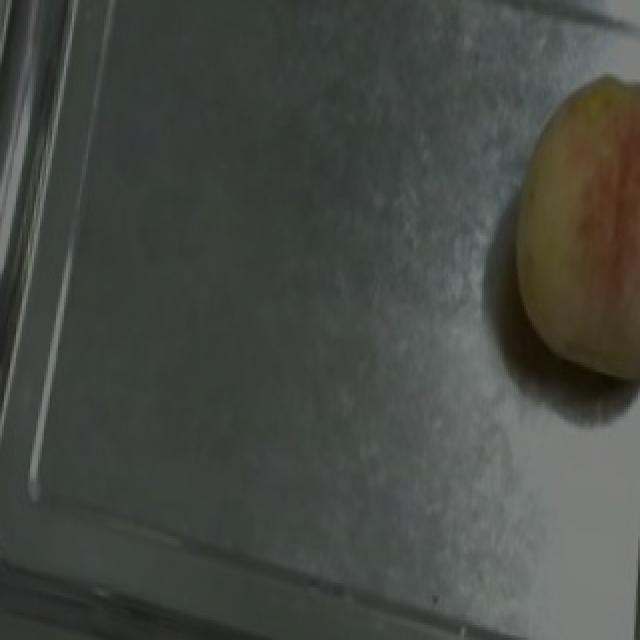Fruit: (470, 59, 640, 410)
